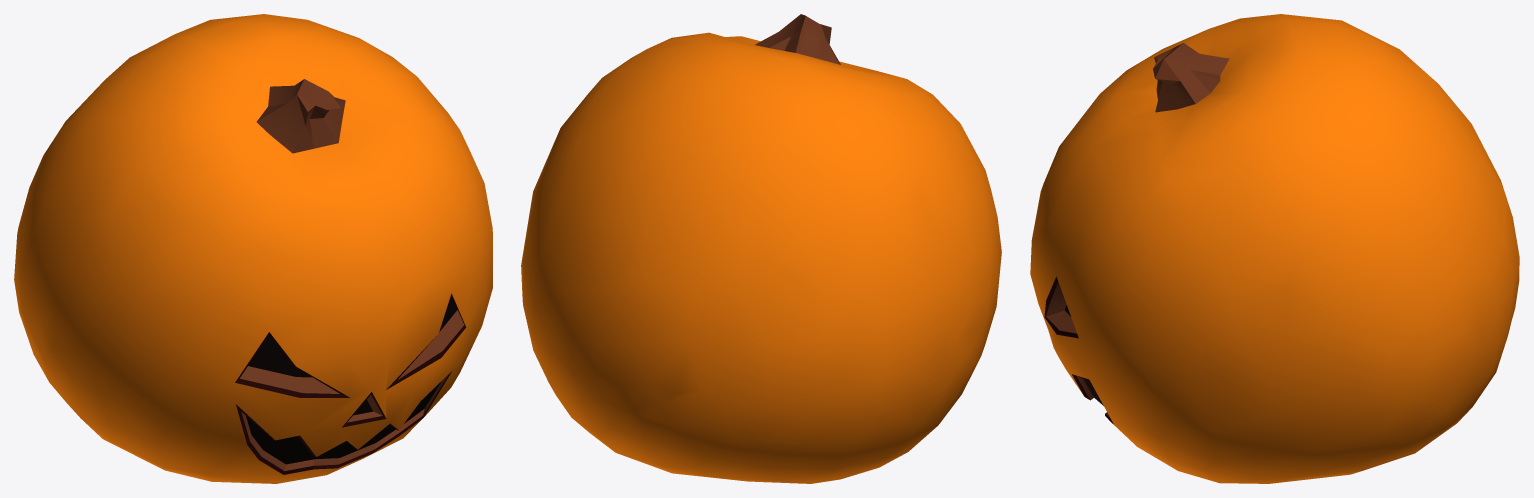
File: creepy_pumpkin_helmet.glb
3 views of the same model, side by side, from view 1: azimuth 30°, elevation 25°; view 2: azimuth 150°, elevation 25°; view 3: azimuth 270°, elevation 25° (orthographic).
Visible parts, largest first — view 1: Helmet_Pumpkin; view 2: Helmet_Pumpkin; view 3: Helmet_Pumpkin.
Part boxes in pixels (left/top/right/bottom): Helmet_Pumpkin: left=14, top=14, right=492, bottom=483; Helmet_Pumpkin: left=521, top=14, right=1001, bottom=483; Helmet_Pumpkin: left=1030, top=14, right=1519, bottom=483.
Bounding box in the file's own units: 0.4841 × 0.4615 × 0.4996.
Materials: 1 (1 with a texture image).
